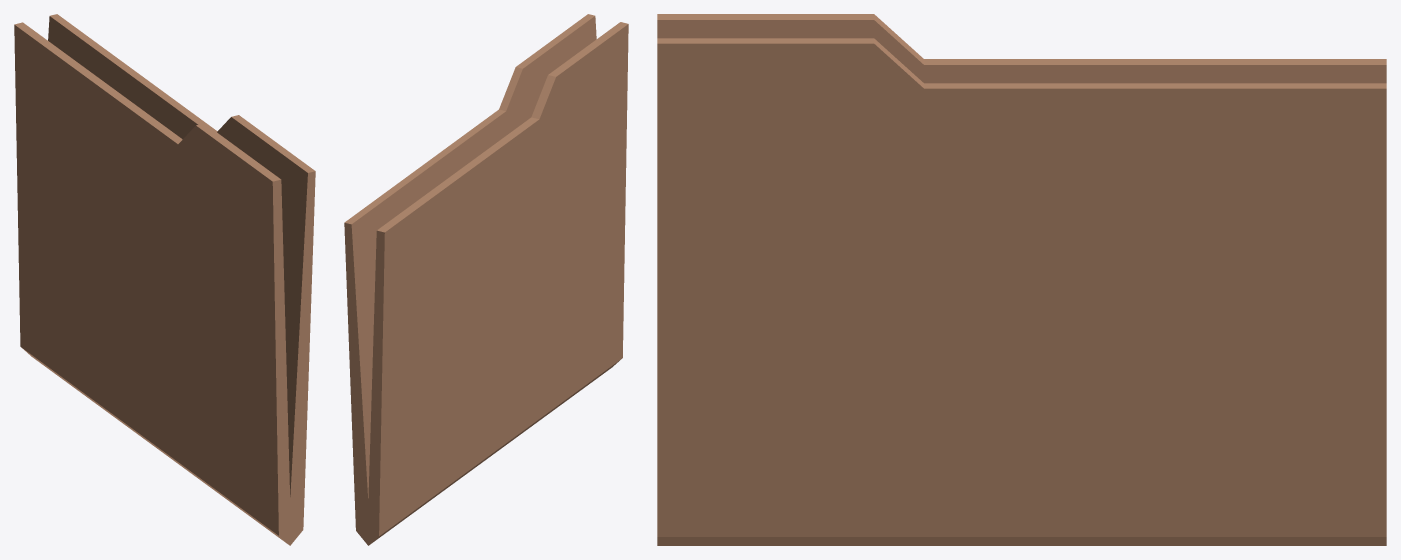
Rendered from file empty.fbx.
3 renders of one model, left to right at view 1: azimuth 30°, elevation 25°; view 2: azimuth 150°, elevation 25°; view 3: azimuth 270°, elevation 25°, orthographic. The views are drawn at different scales.
Parts seen in each view (by area): view 1: file empty; view 2: file empty; view 3: file empty.
Boxes of the visible parts, x1=… form: file empty: x1=14, y1=14, x2=315, y2=545; file empty: x1=344, y1=14, x2=628, y2=545; file empty: x1=657, y1=14, x2=1386, y2=545.
Bounding box in the file's own units: 2.97 × 24.33 × 30.93.
